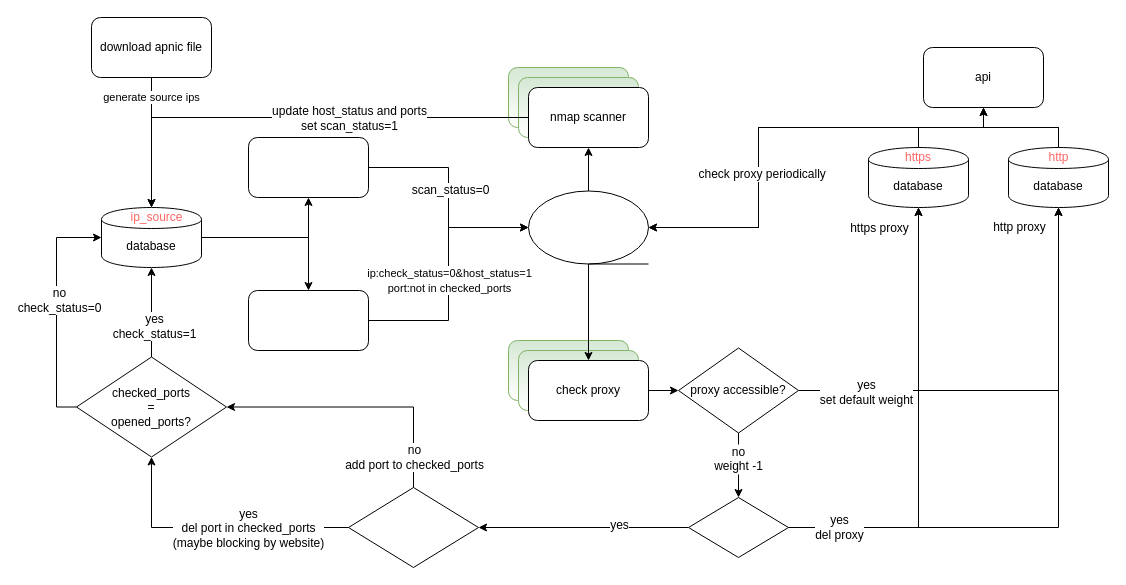
The diagram is 1126 pixels wide and 585 high, and some of its shapes have lost their labels. Here are the shapes that lost their labels. From the top down, the centre of each, then its label:
At pixel 308 167: "extract ips for scanning".
At pixel 588 227: "RabbitMQ".
At pixel 308 320: "extract ips for checking".
At pixel 413 527: "port in checked ports?".
At pixel 738 527: "weight<0?".
